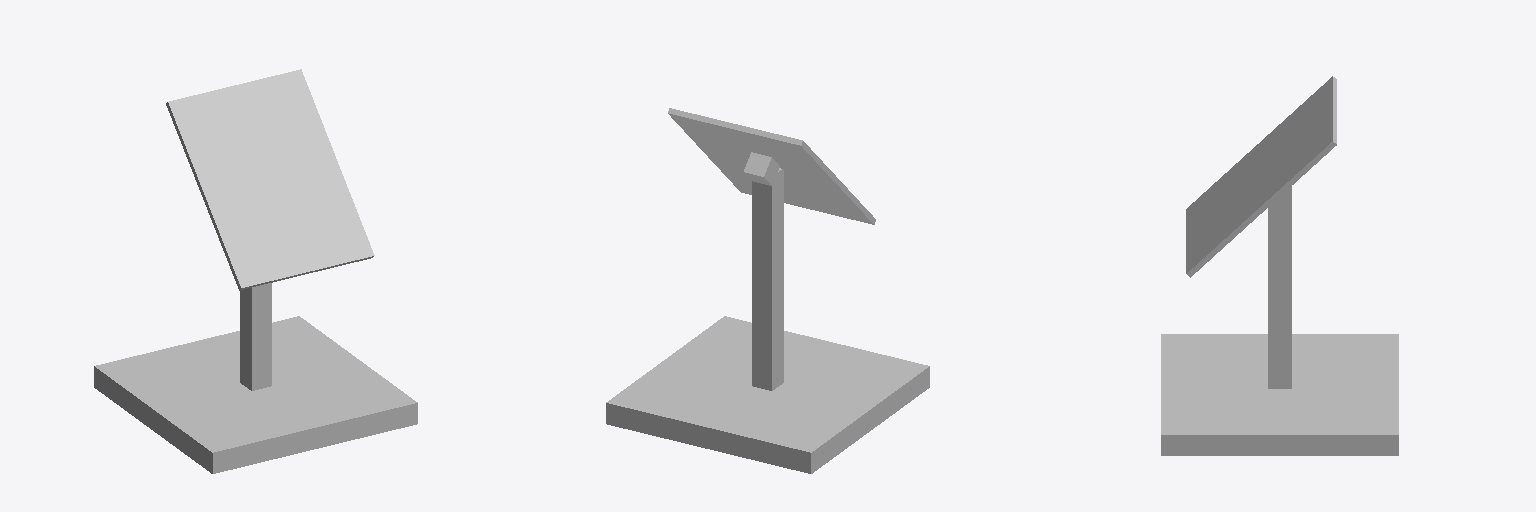
Rendered from solar_planel.obj.
The picture shows the model from 3 angles: view 1: azimuth 30°, elevation 25°; view 2: azimuth 150°, elevation 25°; view 3: azimuth 270°, elevation 25°; orthographic projection.
Parts seen in each view (by area): view 1: cube; view 2: cube; view 3: cube.
Part boxes in pixels (bbox=[...]): cube: bbox=[94, 69, 417, 473]; cube: bbox=[606, 108, 929, 473]; cube: bbox=[1161, 76, 1398, 455].
Bounding box in the file's own units: 0.625 × 0.8721 × 0.625.